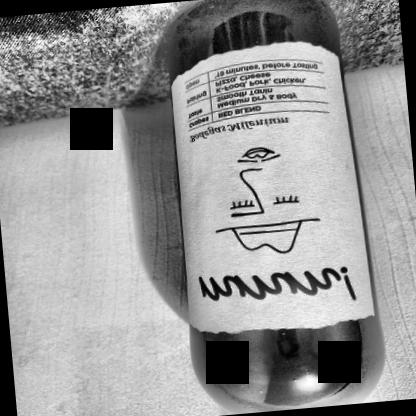umm: (169, 29, 372, 339)
